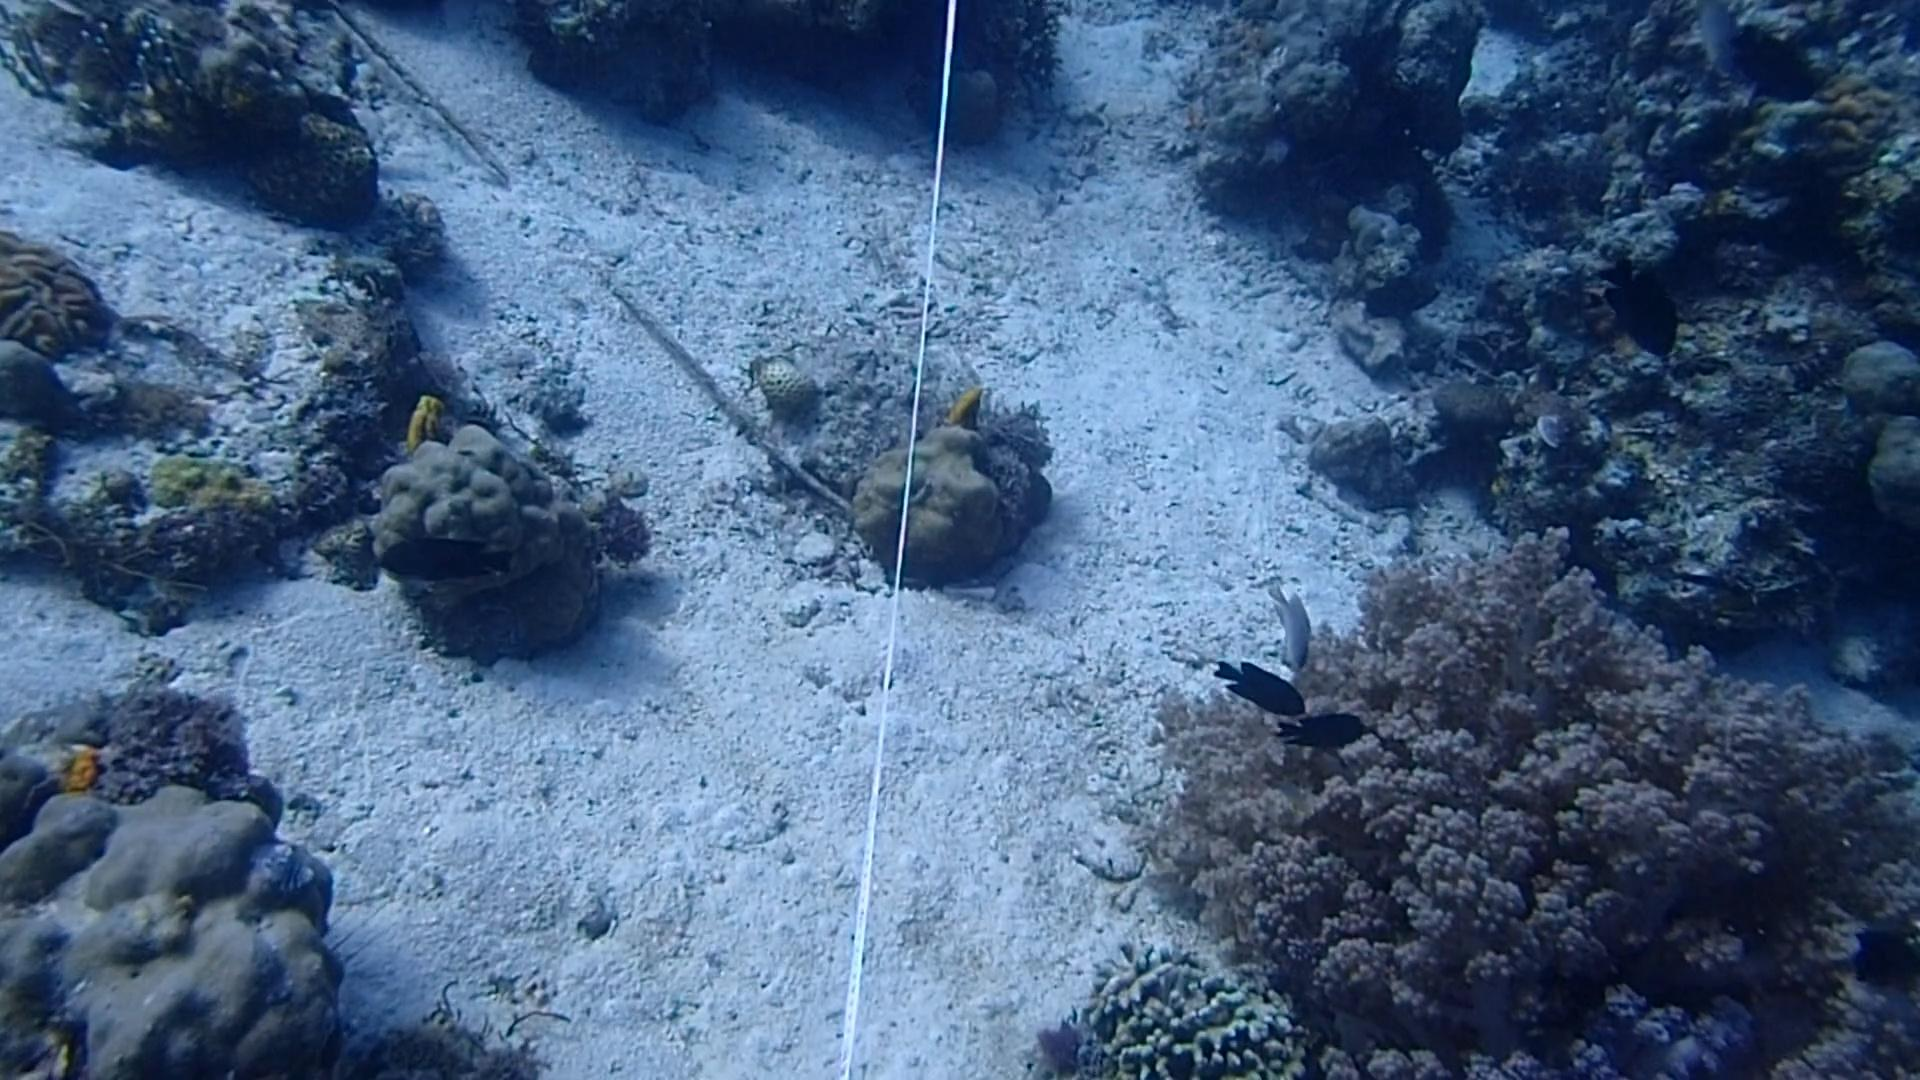Dark Fish: (1590, 244, 1692, 369), (359, 522, 522, 597), (1200, 640, 1315, 728), (1729, 15, 1826, 102), (1267, 702, 1377, 767), (1857, 928, 1920, 1001)
Light Fish: (1244, 571, 1341, 678)
